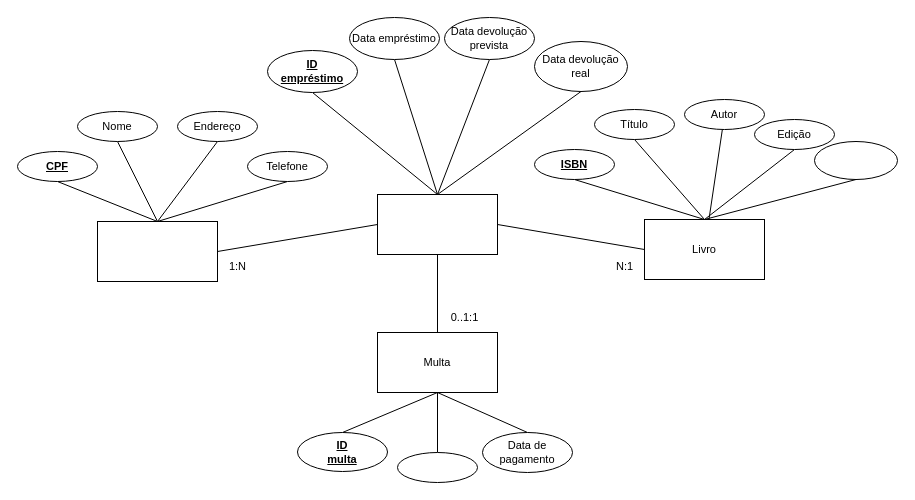
This 915x500 diagram has some shape labels left out. The centre of each missing label's shape, as x and y in pixels:
"Ano publicação" belongs at (856,160).
"Empréstimo" belongs at (437,224).
"Usuário" belongs at (157,251).
"Valor" belongs at (437,467).
